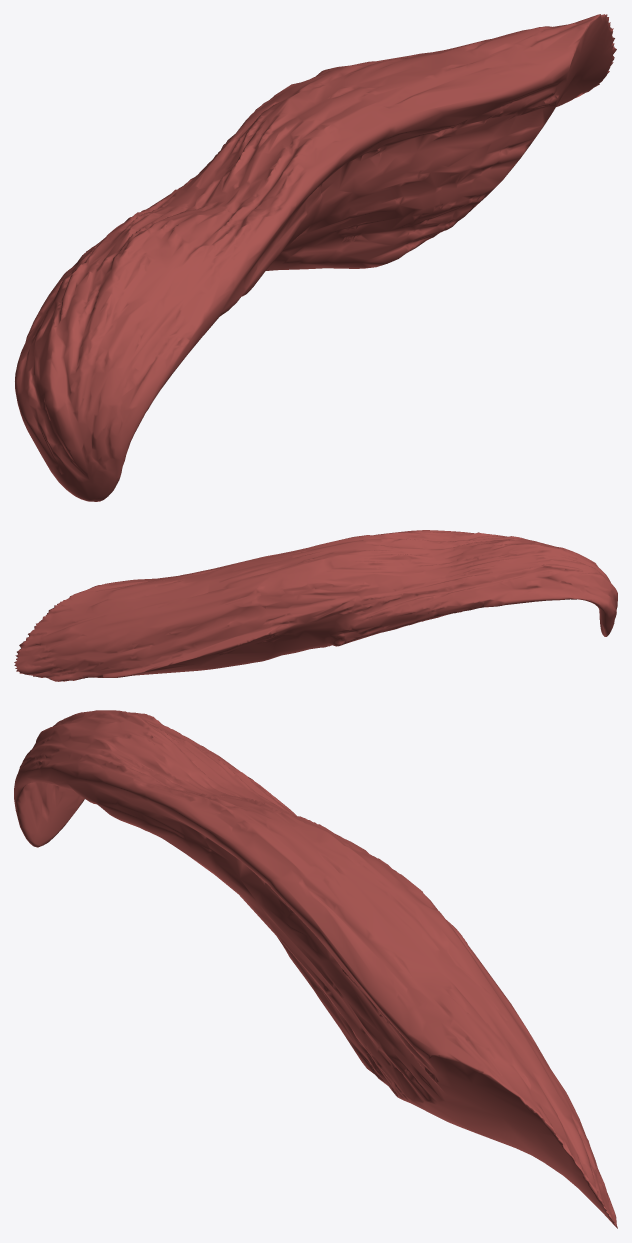
Rendered from FMA32544.glb.
3 views of the same model, one above another, from view 1: azimuth 30°, elevation 25°; view 2: azimuth 150°, elevation 25°; view 3: azimuth 270°, elevation 25° (orthographic). The views are drawn at different scales.
Parts seen in each view (by area): view 1: FMA32544; view 2: FMA32544; view 3: FMA32544.
Boxes of the visible parts, bbox=[...] form: FMA32544: bbox=[15, 14, 616, 501]; FMA32544: bbox=[14, 530, 617, 681]; FMA32544: bbox=[14, 710, 617, 1228].
Size of the model in its own units: 0.1213 by 0.0317 by 0.0823.
